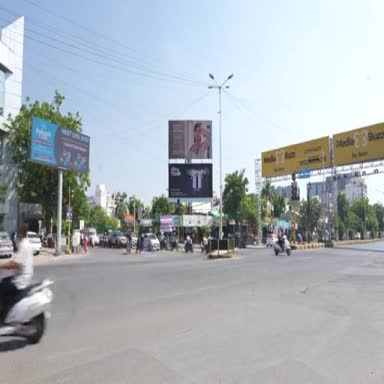Car: (0, 232, 13, 256), (27, 232, 41, 254), (109, 231, 126, 247), (143, 233, 159, 250), (266, 234, 277, 246), (90, 233, 99, 245), (132, 235, 137, 247), (132, 235, 137, 246)
